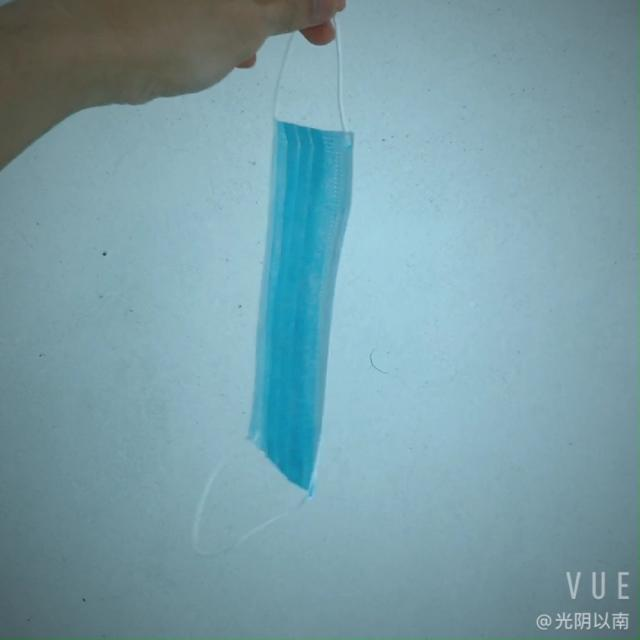face mask: (222, 101, 383, 508)
